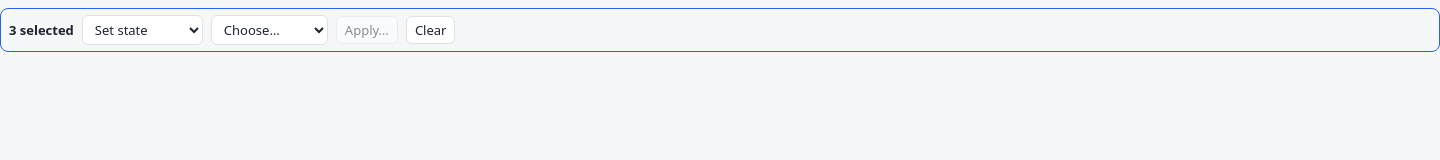
Test: BulkBar › reports the issues that failed with the host's reason
Select "Set state" in the dropdown named "What to change" at point(142, 30), box 82,15 -> 203,45
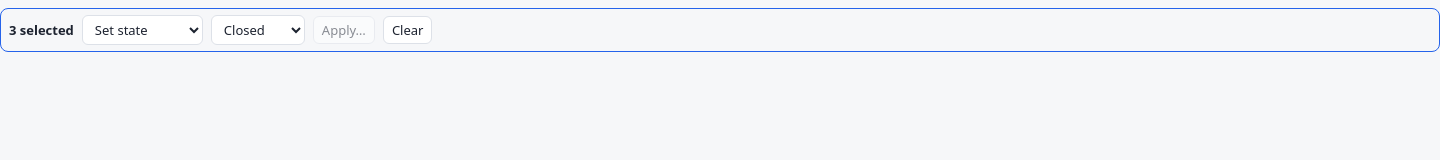
Select "Closed" in the dropdown named "State" at point(258, 30), box 211,15 -> 305,45
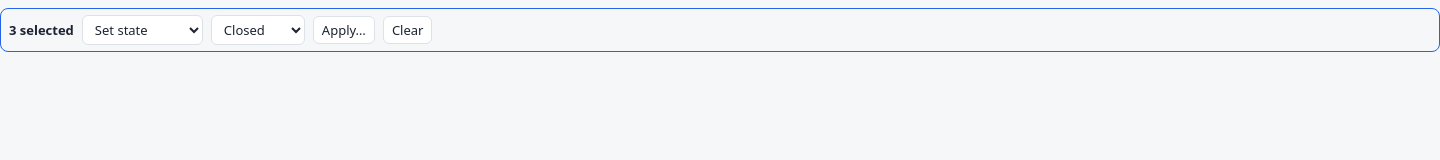
Click the button "Apply…" at point(344, 30), box 313,16 -> 375,44
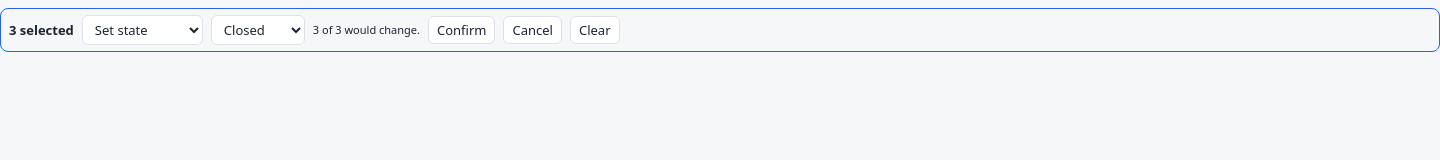
Click the button "Confirm" at point(462, 30), box 428,16 -> 496,44
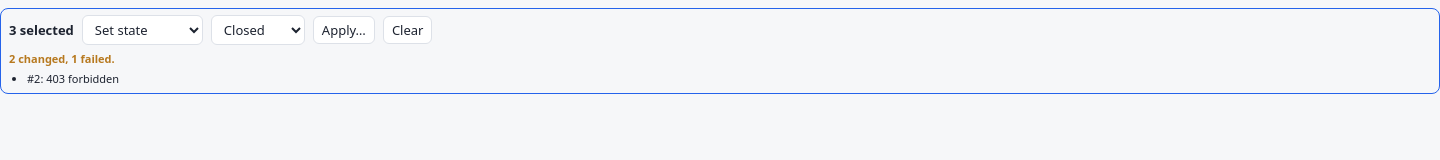
Check: the text "2 changed" is shown, box 9,51 -> 115,66
Check: the text "1 failed" is shown, box 65,51 -> 112,66
Check: the text "403 forbidden" is shown, box 46,71 -> 119,86
